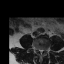CCS_normal: (40, 48, 42, 56)
LFS_severe_stenosis: (44, 47, 46, 52)
LLS_stenosis: (42, 48, 43, 54)
RFS_severe_stenosis: (37, 46, 39, 52)
RLS_normal: (39, 48, 40, 54)
